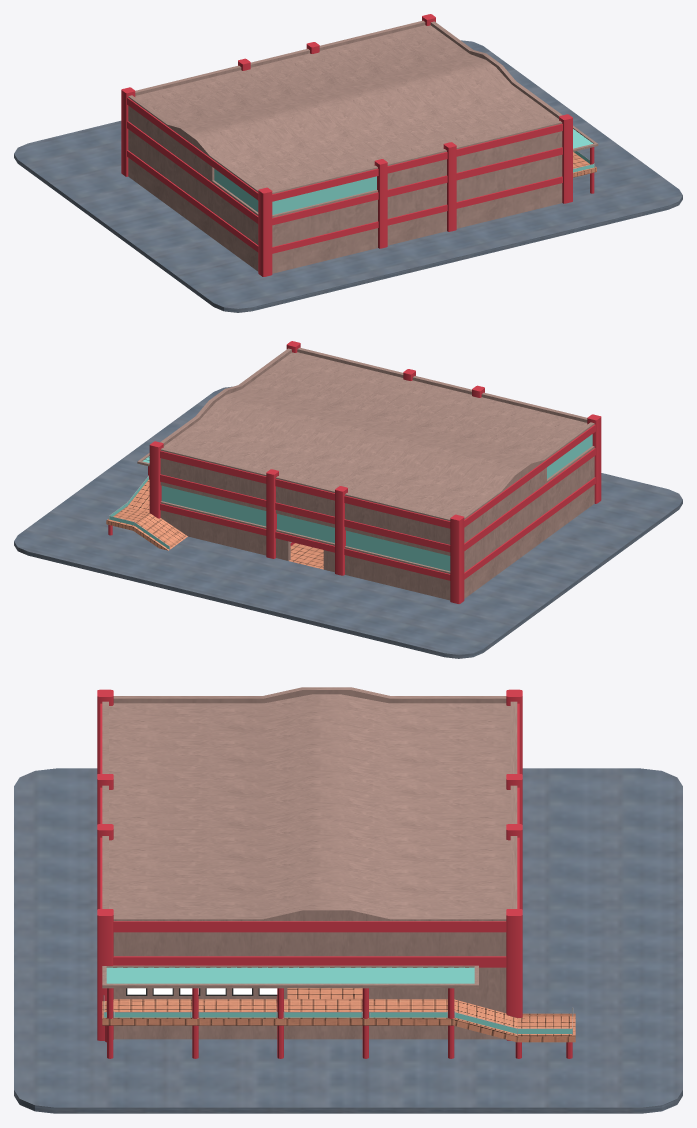
The model's file is empty-mall.glb.
3 views of the same model, one above another, from view 1: azimuth 30°, elevation 25°; view 2: azimuth 150°, elevation 25°; view 3: azimuth 270°, elevation 25° (orthographic). The views are drawn at different scales.
Parts seen in each view (by area): view 1: Mall_0; view 2: Mall_0; view 3: Mall_0.
Part boxes in pixels (left/top/right/bottom): Mall_0: left=14, top=14, right=682, bottom=312; Mall_0: left=14, top=341, right=682, bottom=658; Mall_0: left=14, top=687, right=682, bottom=1113.
Bounding box in the file's own units: 120 × 22.27 × 100.
1 material, 1 textured.
